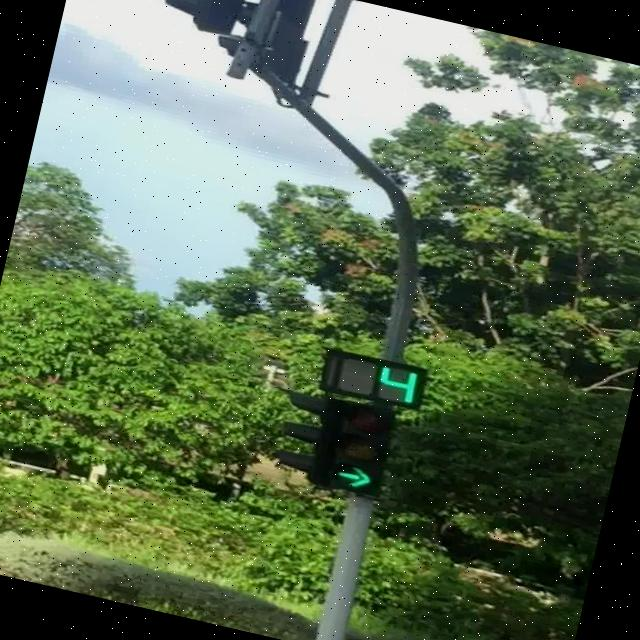green_light: (322, 399, 397, 498)
